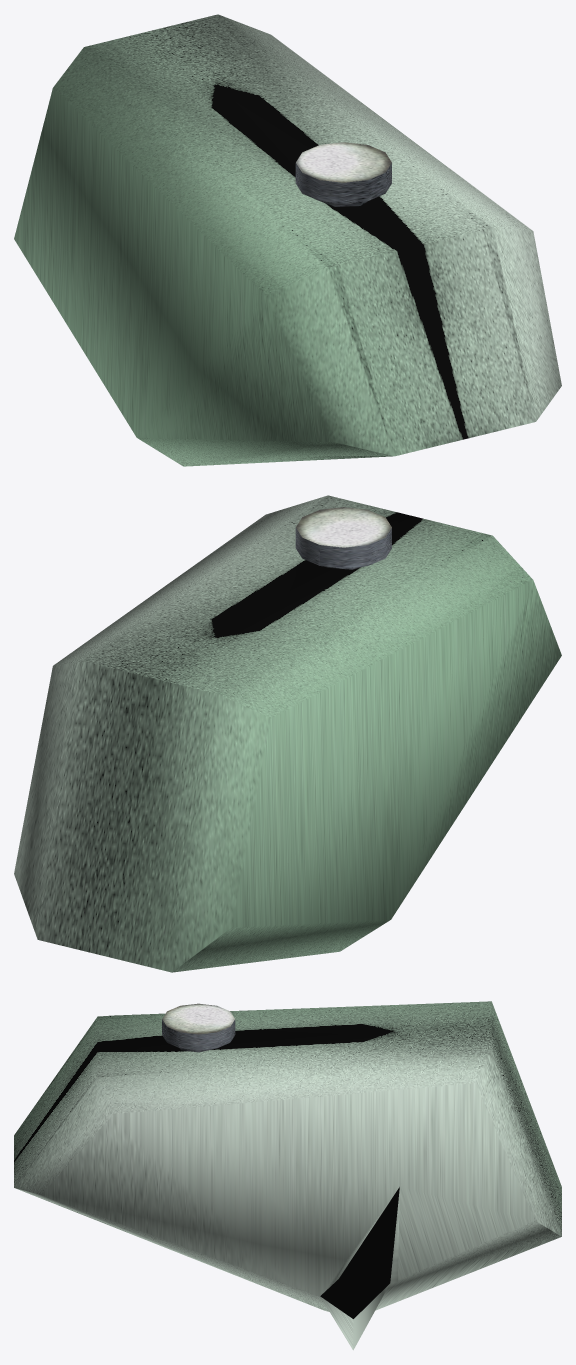
File: BrokenTank.fbx
3 renders of one model, top to bottom at view 1: azimuth 30°, elevation 25°; view 2: azimuth 150°, elevation 25°; view 3: azimuth 270°, elevation 25°, orthographic. The views are drawn at different scales.
Parts seen in each view (by area): view 1: BrokenTank; view 2: BrokenTank; view 3: BrokenTank.
Boxes of the visible parts, bbox=[...] form: BrokenTank: bbox=[14, 14, 561, 466]; BrokenTank: bbox=[14, 495, 561, 972]; BrokenTank: bbox=[14, 1001, 561, 1350].
Bounding box in the file's own units: 27.93 × 29.63 × 55.57.
